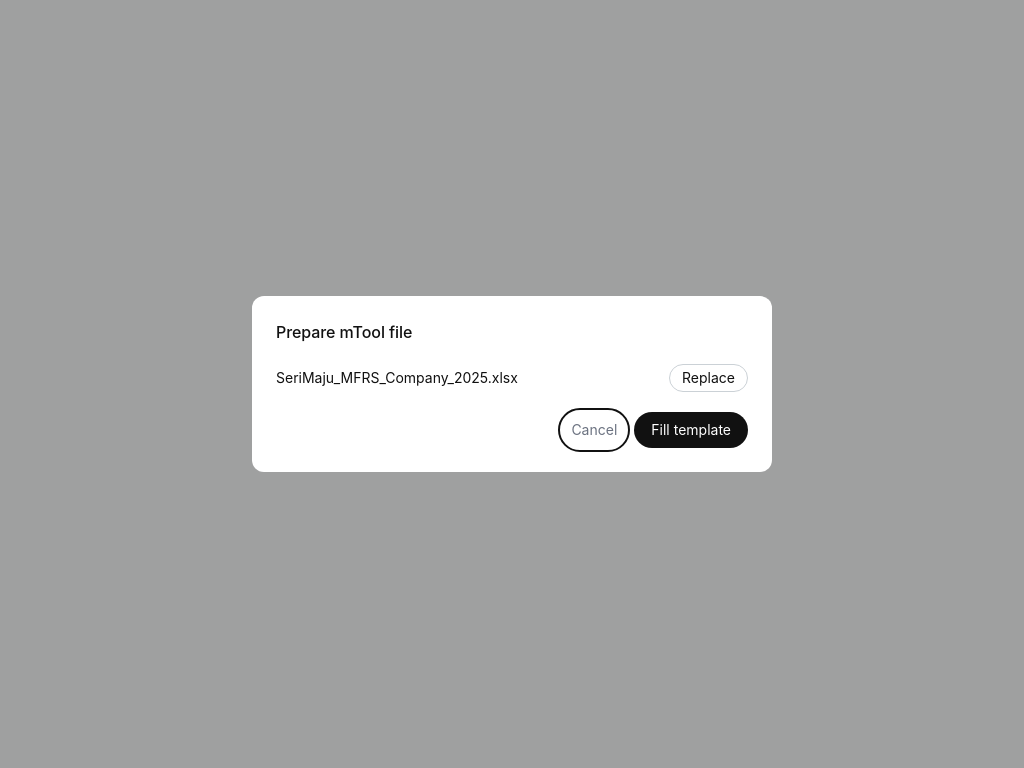
Test: Prepare mTool file › shows the chosen template with Replace, then fills, waits and shows the receipt
Earlier steps of the test are not shown.
Later steps or results of the test are not shown.
Expected: the text "SeriMaju_MFRS_Company_2025.xlsx" is shown, [276, 369, 518, 386]
Expected: the button "Replace" is shown, [669, 364, 748, 392]
What coordinates should you click on to do the following:
click the button "Fill template"
I would click on:
 (691, 430)
Its box is [634, 412, 748, 448].
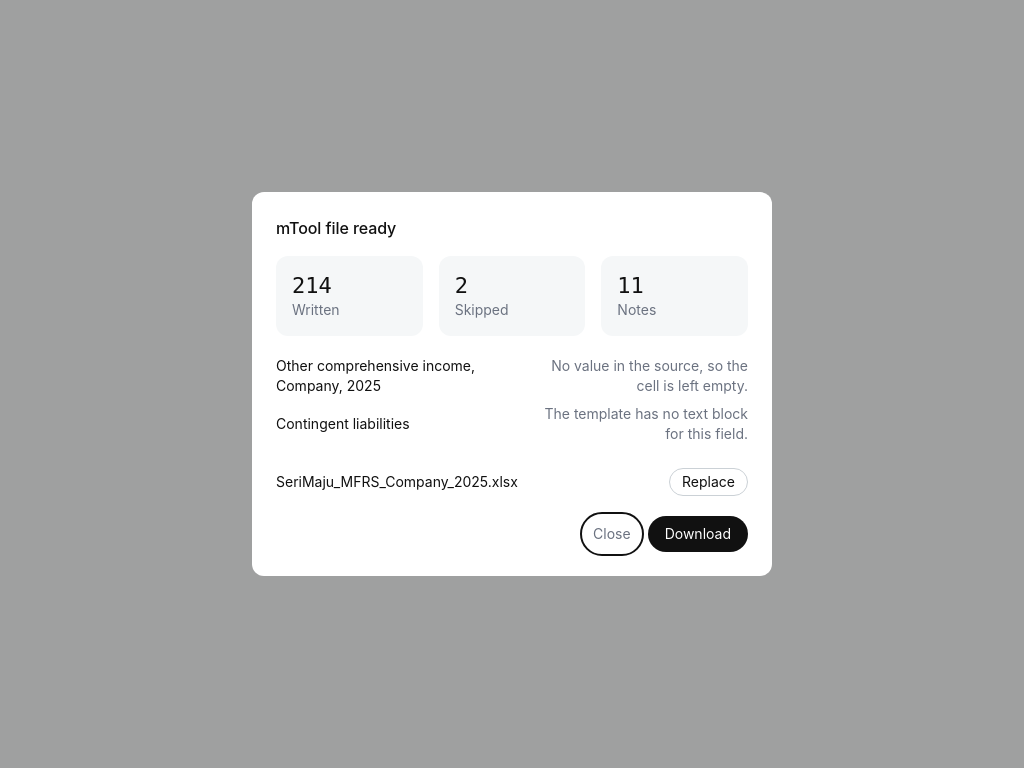
Expected: the text "Written" is shown, [292, 301, 340, 318]
Expected: the text "Skipped" is shown, [455, 301, 509, 318]
Expected: the text "Notes" is shown, [617, 301, 656, 318]
